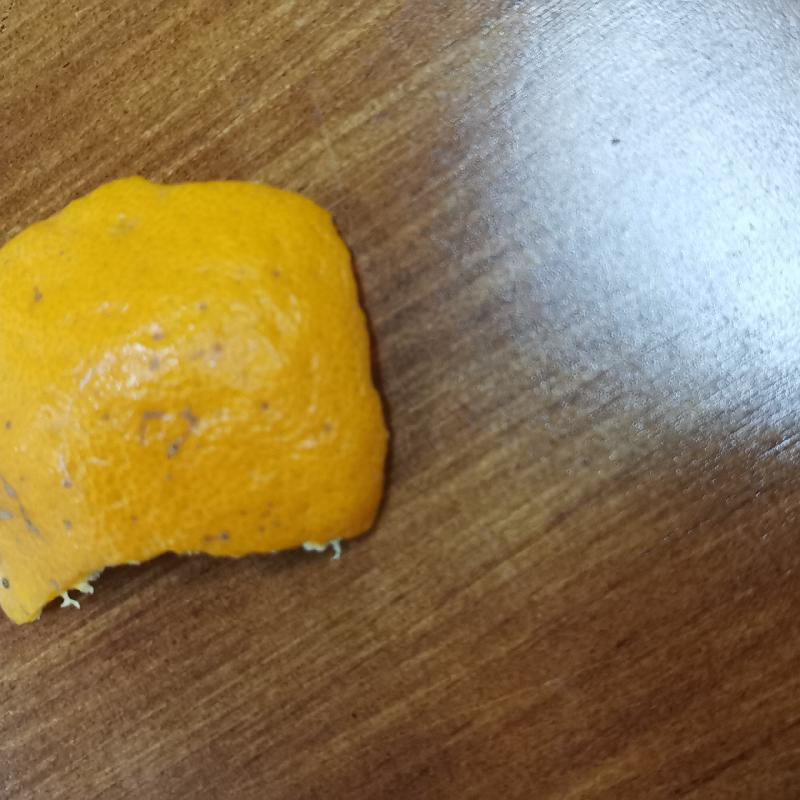orange: (6, 168, 391, 616)
